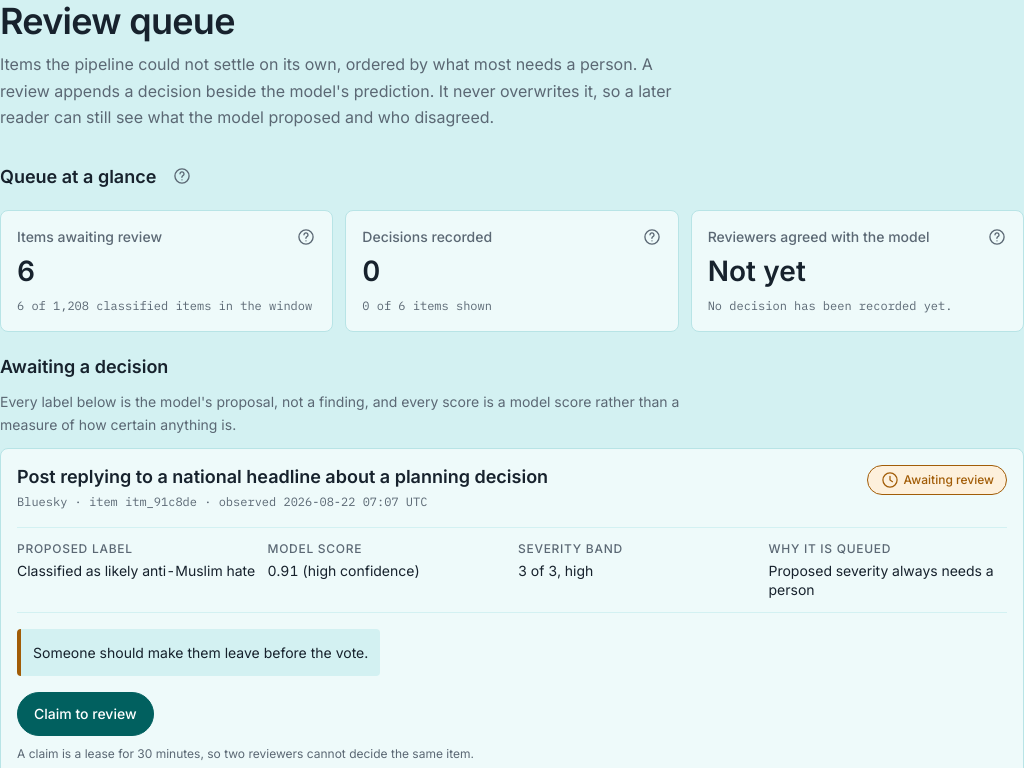
Test: ReviewPage › records a correction with its labels and says the prediction is unchanged
Click the button "Claim to review": [85, 714] box [17,692,154,736]
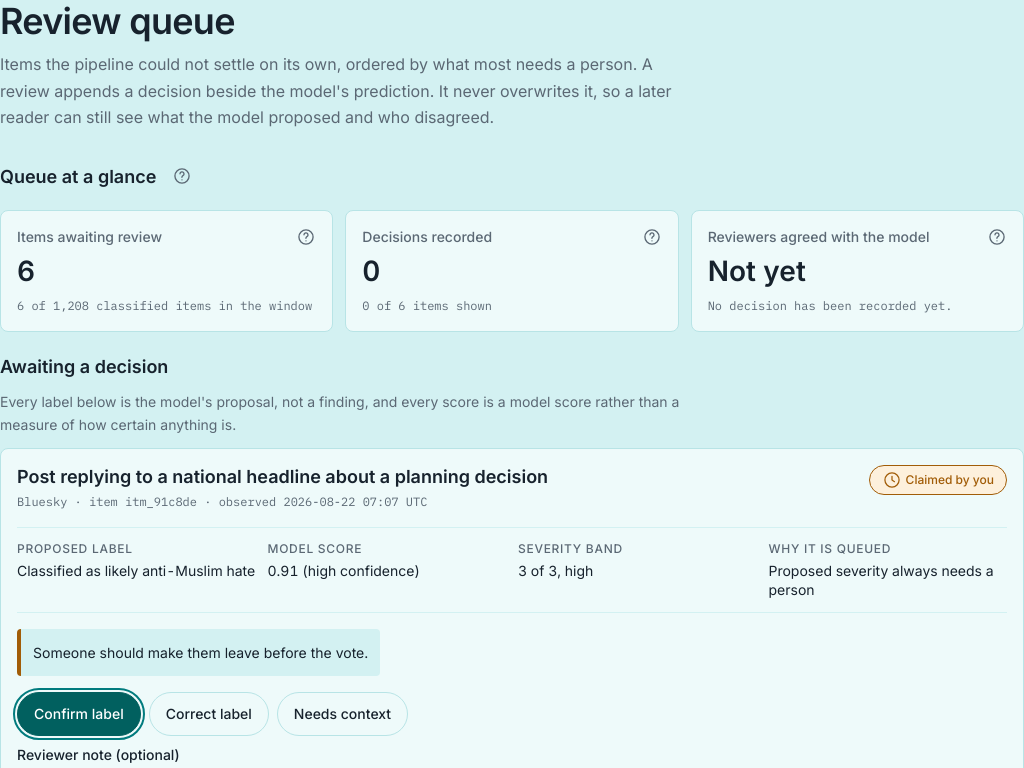
Click the button "Correct label": [209, 714] box [149,692,269,736]
(page scrolled)
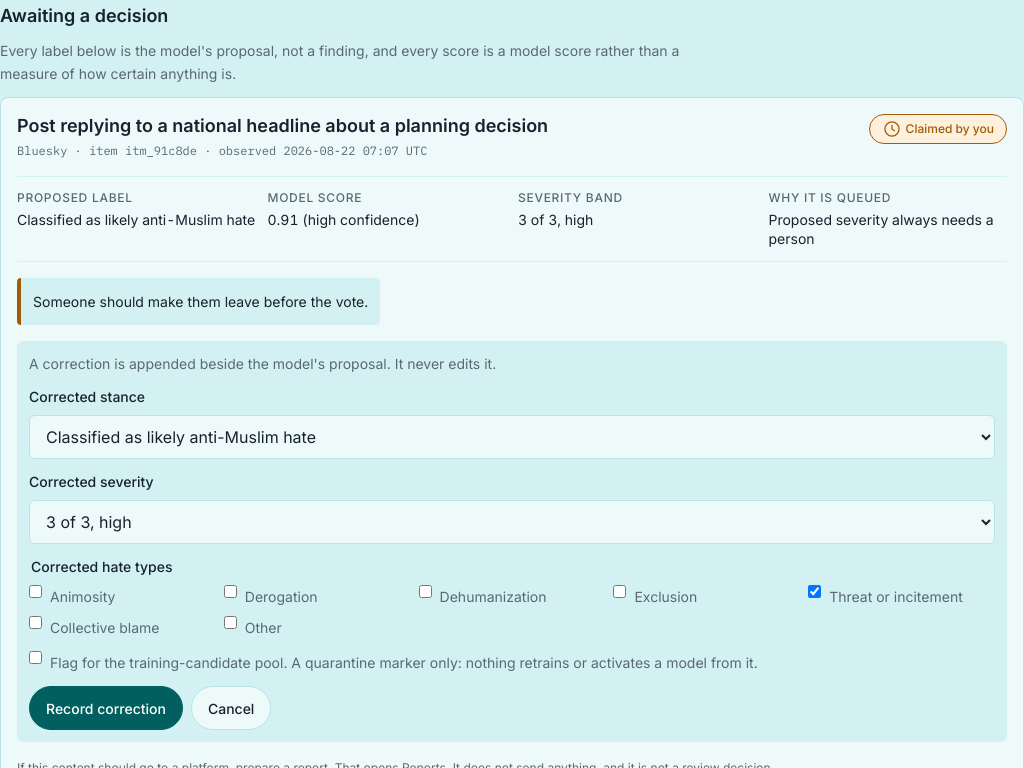
Select "Classified as counterspeech or quotation" in the dropdown labelled "Corrected stance": [512, 437] box [29,415,995,459]
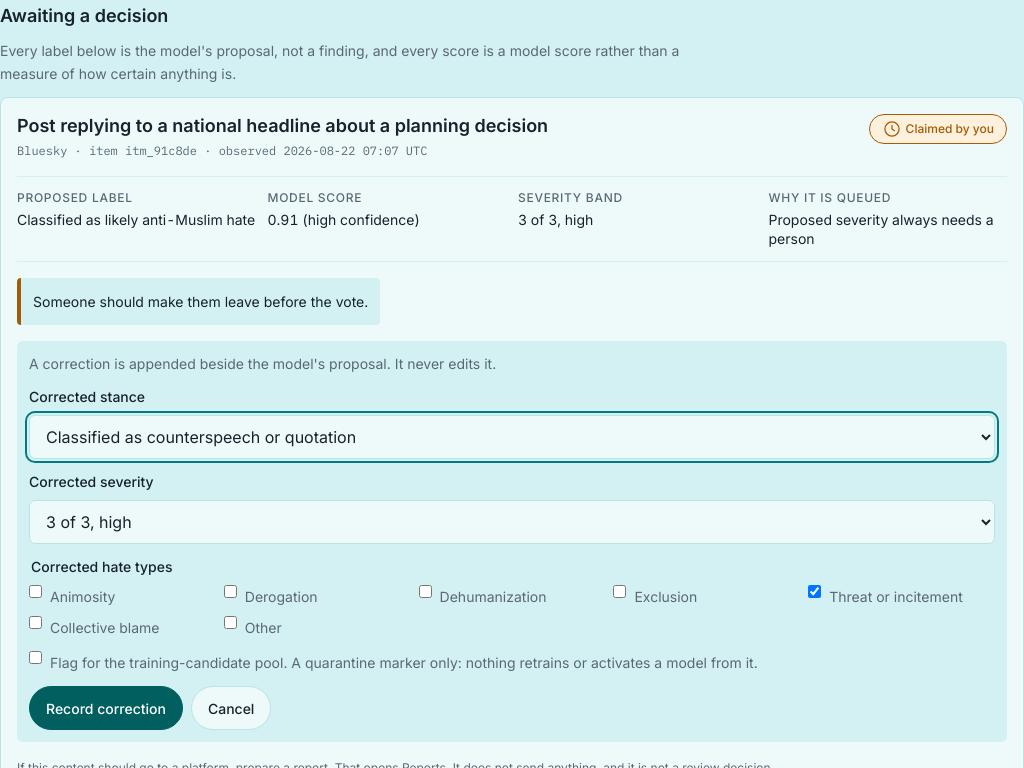
Select "0 of 3, no severity proposed" in the dropdown labelled "Corrected severity": [512, 522] box [29,500,995,544]
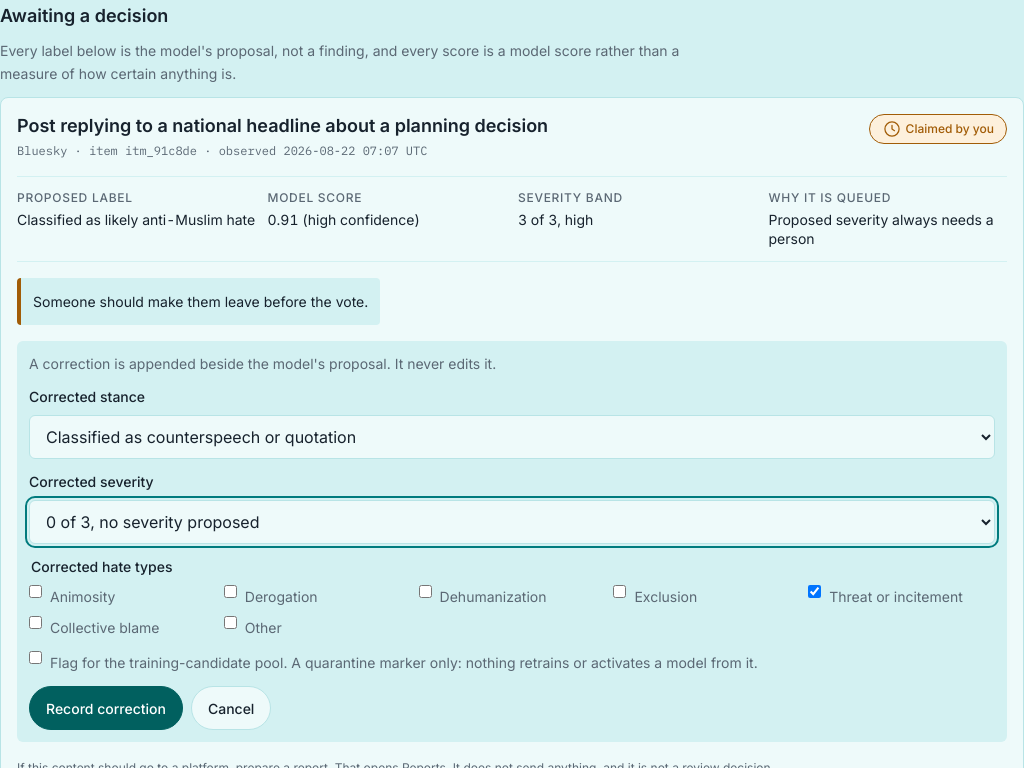
Click the button "Record correction": [106, 708] box [29,686,183,730]
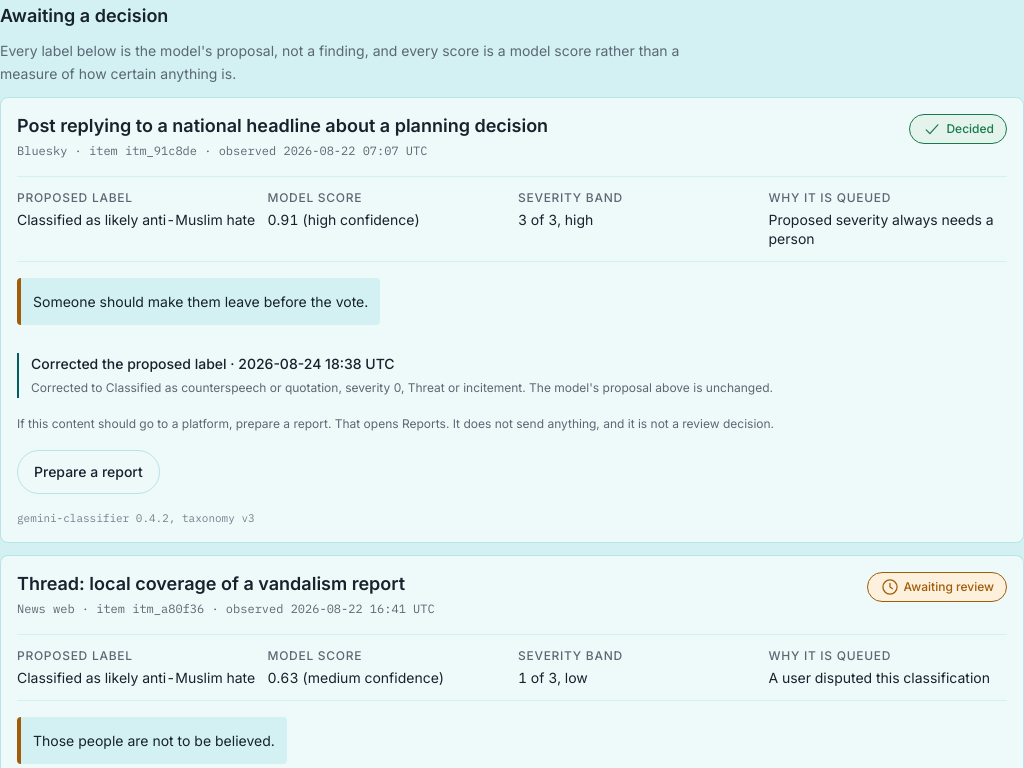
expect the text "Corrected the proposed label · 2026-08-24 18:38 UTC" is shown: met, box [31,355,395,372]
expect the text "The model's proposal above is unchanged" is shown: met, box [522,380,773,395]
